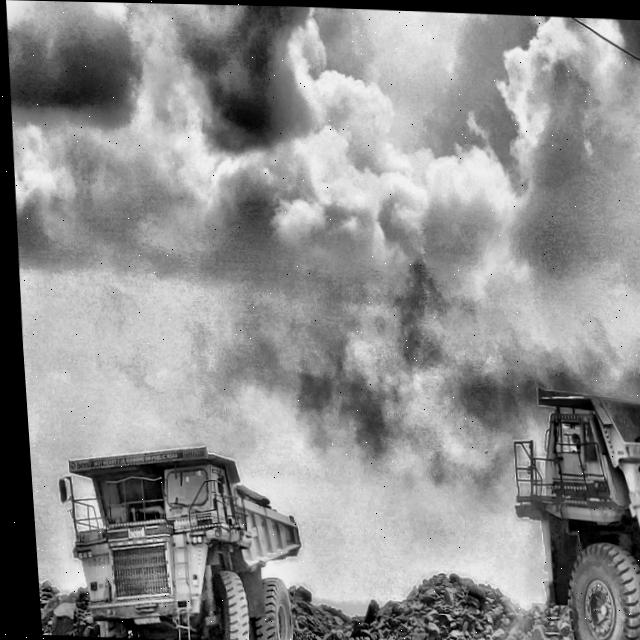dump_truck: (55, 450, 290, 640), (511, 389, 640, 640)
